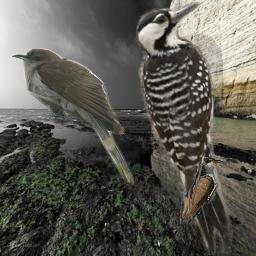Cuckoo: (12, 48, 134, 187), (180, 157, 235, 227)
Woodpecker: (136, 2, 233, 255)
